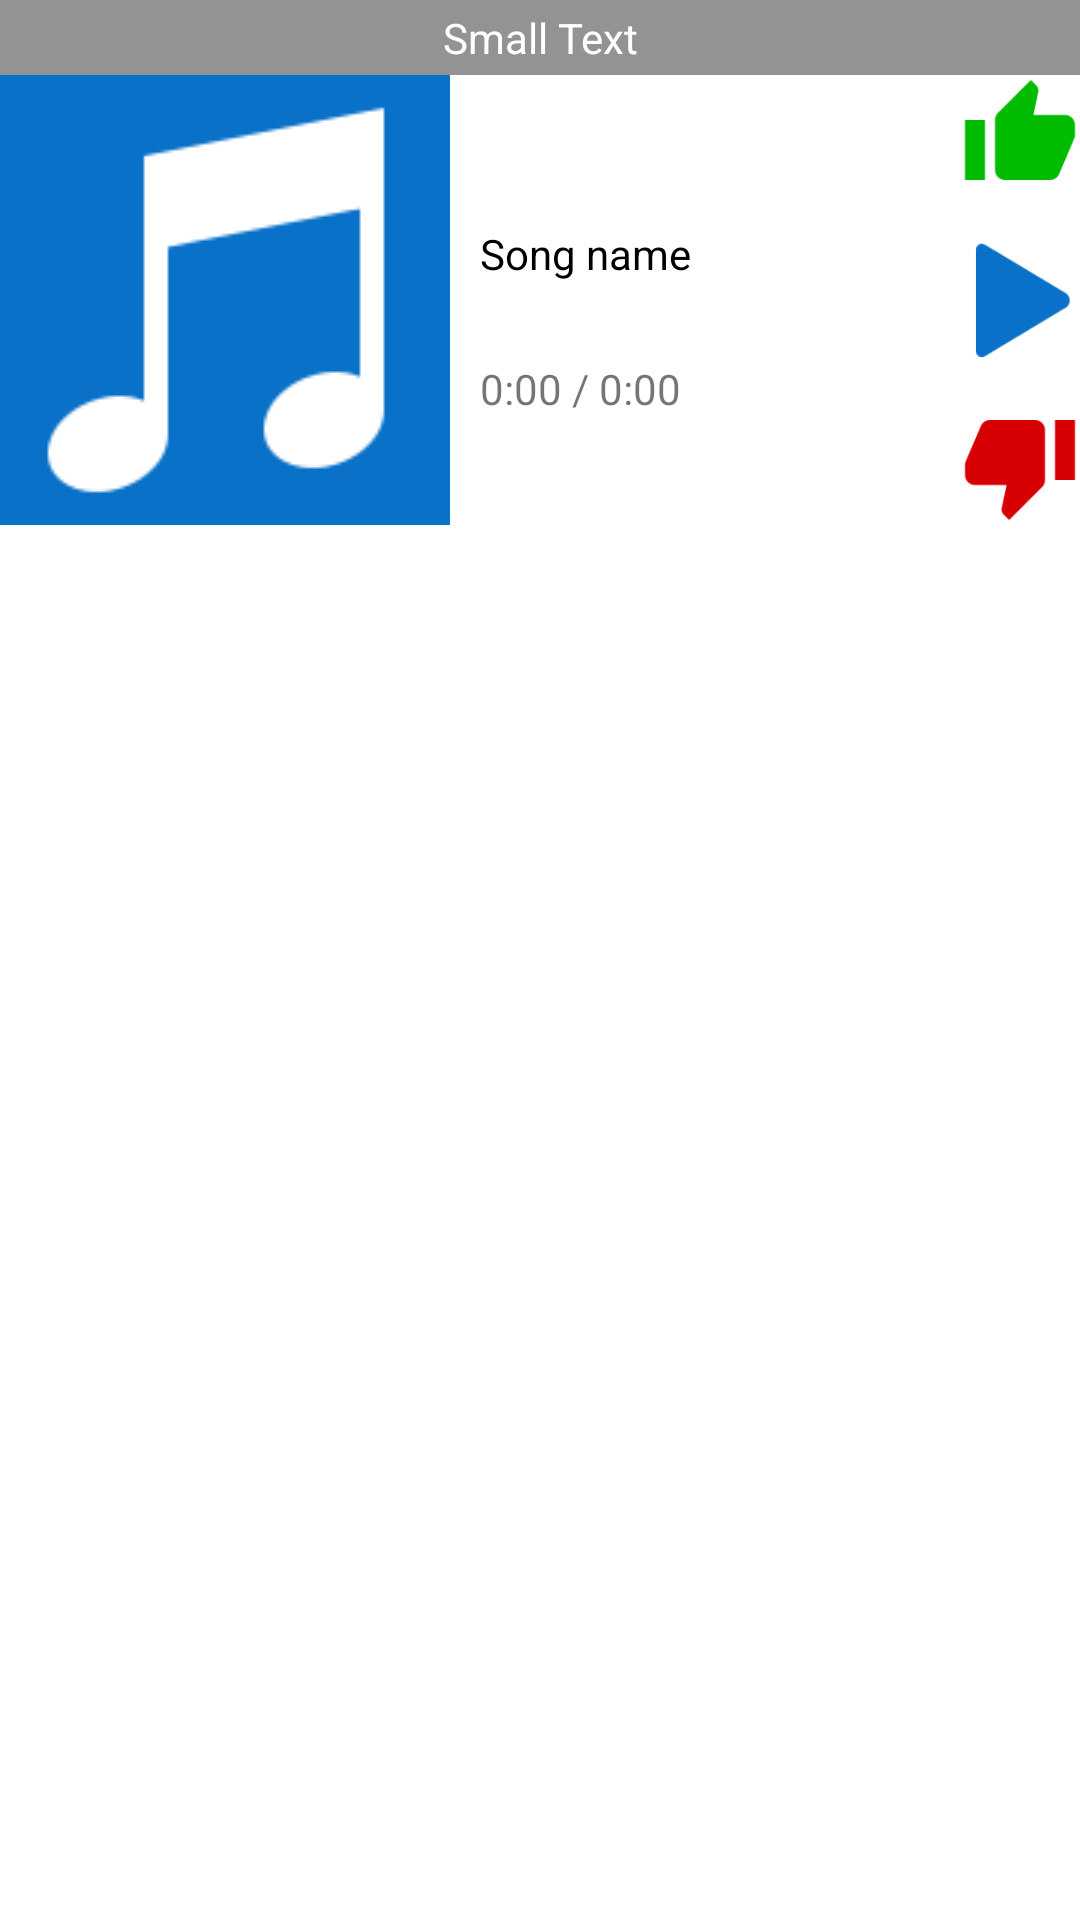

Icons on this 1080px x 1920px Android screen, each with the point to tap as point (x, y):
play: point (1023, 300)
thumb down: point (1020, 470)
thumb up: point (1020, 130)
